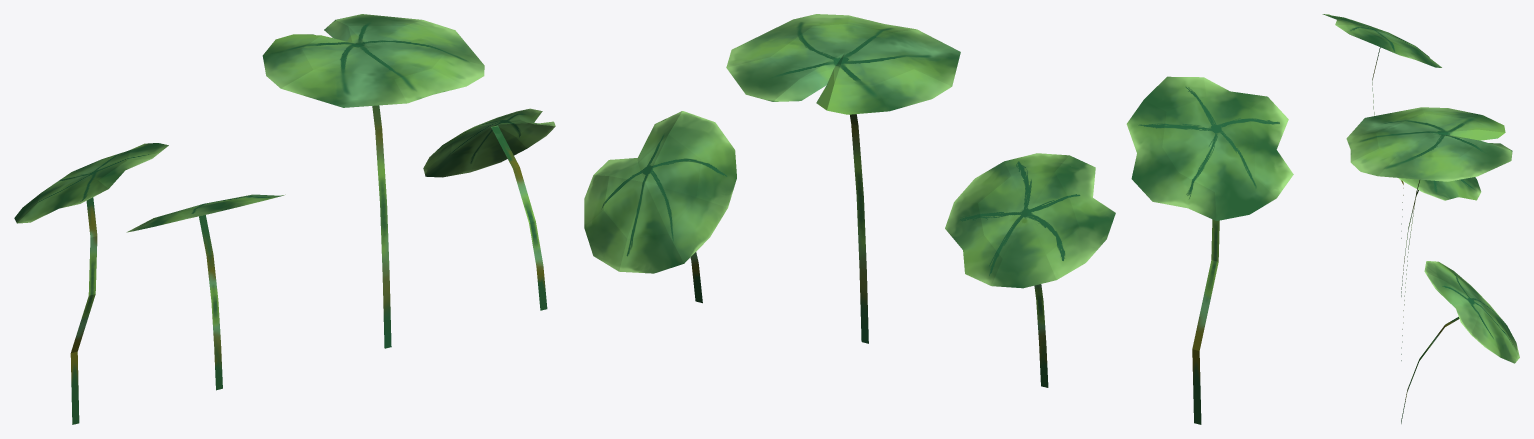
Rendered from LaSen.fbx.
3 renders of one model, left to right at view 1: azimuth 30°, elevation 25°; view 2: azimuth 150°, elevation 25°; view 3: azimuth 270°, elevation 25°, orthographic. The views are drawn at different scales.
Visible parts, largest first — view 1: LaSen_T, LaSen_L, LaSen_B, LaSen_R; view 2: LaSen_B, LaSen_T, LaSen_L, LaSen_R; view 3: LaSen_T, LaSen_L, LaSen_B, LaSen_R.
Part boxes in pixels (x1,y1,x2,y2): LaSen_T: (262,14,484,348); LaSen_L: (423,108,555,310); LaSen_B: (14,143,168,424); LaSen_R: (126,194,285,390); LaSen_B: (1126,76,1293,424); LaSen_T: (726,14,960,343); LaSen_L: (584,111,736,303); LaSen_R: (945,153,1115,387); LaSen_T: (1346,107,1512,360); LaSen_L: (1401,261,1519,423); LaSen_B: (1322,14,1441,238); LaSen_R: (1398,177,1481,296).
Bounding box in the file's own units: 2.33 × 0.8422 × 1.08.
Materials: 1 (1 with a texture image).
